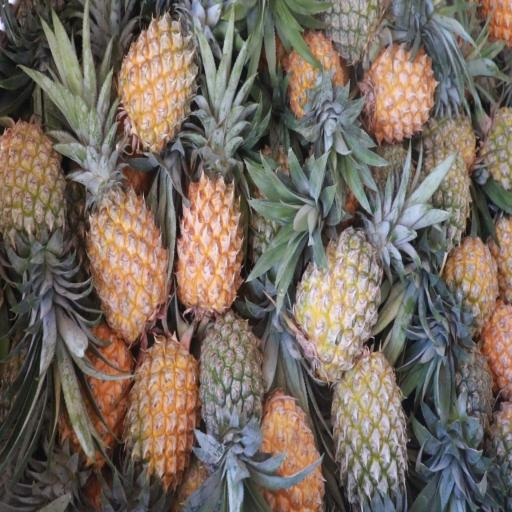------------------------------: (301, 232, 380, 376), (334, 356, 408, 509)
Pineapple - v8 v1: (92, 166, 167, 334), (0, 117, 67, 264), (129, 341, 197, 482), (122, 19, 196, 147), (180, 173, 244, 320), (68, 328, 130, 449), (265, 397, 324, 512), (370, 46, 439, 139), (286, 37, 343, 124), (447, 243, 497, 336)
